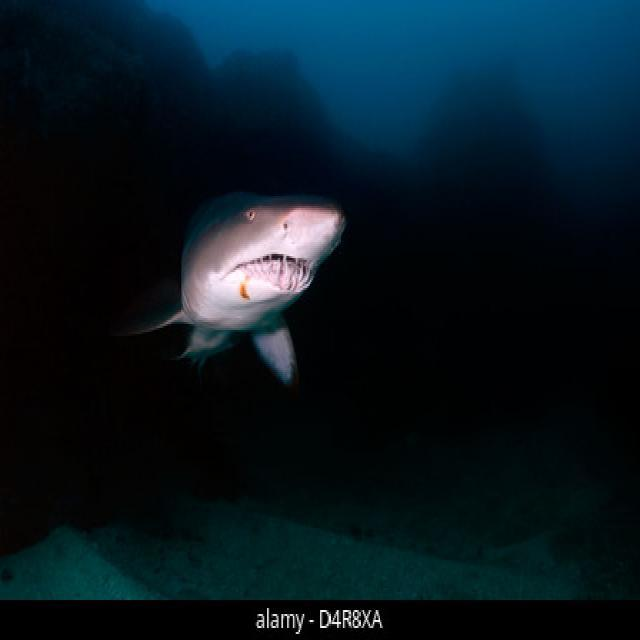Shark: (148, 154, 363, 430)
